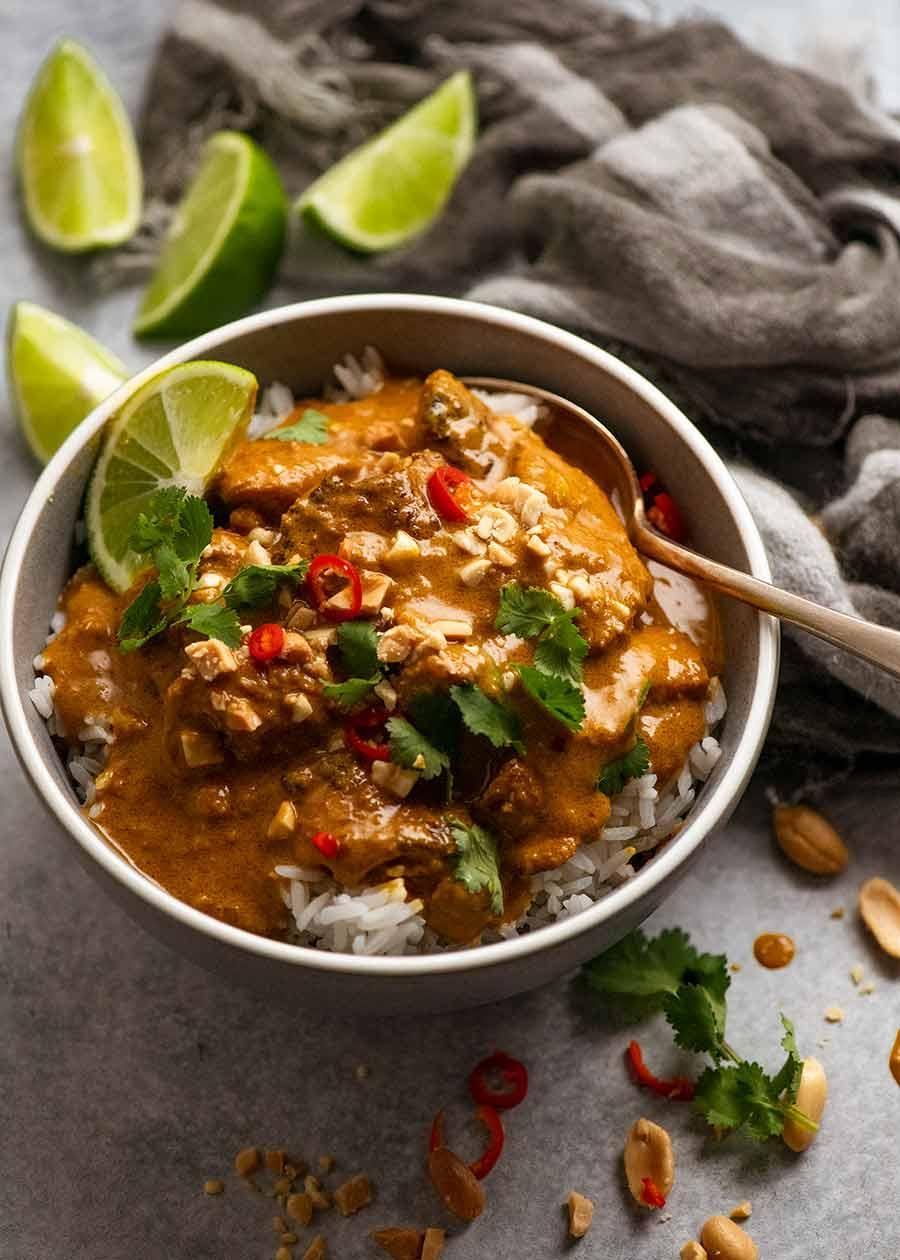chicken: (40, 335, 743, 919)
